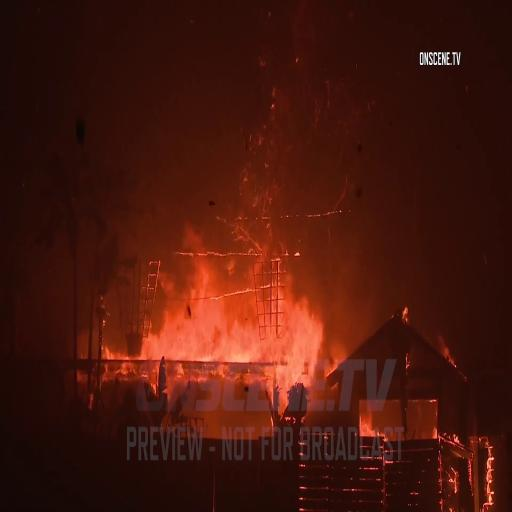fire: (138, 239, 319, 367)
